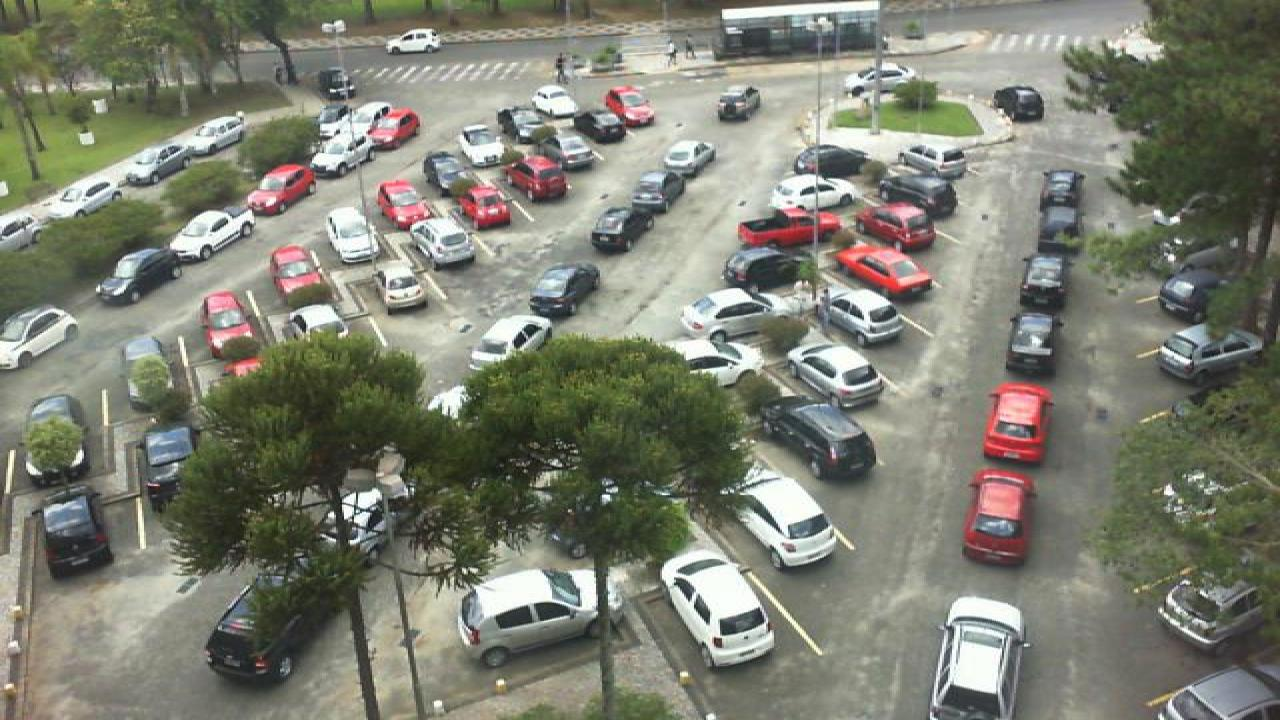Car: (456, 566, 598, 668), (658, 549, 776, 666), (926, 595, 1030, 720), (204, 583, 316, 685), (730, 470, 838, 568), (762, 393, 878, 481), (1152, 575, 1266, 648), (960, 468, 1034, 566), (1156, 322, 1266, 386), (20, 393, 94, 486), (1160, 664, 1280, 720), (788, 341, 886, 408), (36, 498, 112, 580), (122, 335, 196, 413), (982, 382, 1052, 464), (836, 243, 932, 299), (814, 287, 906, 345), (140, 424, 200, 511), (0, 305, 78, 371), (468, 314, 556, 371), (166, 209, 256, 264), (202, 290, 266, 367), (94, 249, 182, 305), (678, 286, 776, 336), (738, 207, 840, 251), (672, 338, 758, 390), (722, 246, 814, 292), (528, 261, 600, 318), (244, 162, 316, 219), (1158, 269, 1228, 324), (406, 216, 476, 271), (44, 176, 130, 220), (268, 245, 328, 307), (1006, 312, 1064, 376), (854, 202, 934, 248), (880, 175, 958, 221), (502, 154, 572, 202), (366, 258, 428, 312), (324, 206, 382, 263), (120, 144, 196, 187), (1018, 254, 1072, 312), (770, 176, 860, 210), (452, 181, 514, 230), (282, 302, 348, 346), (890, 144, 970, 180), (376, 180, 432, 231), (306, 136, 374, 178), (422, 151, 478, 201), (626, 170, 686, 215), (358, 106, 422, 148), (790, 144, 864, 180), (588, 206, 644, 253), (184, 113, 246, 153), (1030, 207, 1078, 257), (602, 83, 656, 126), (540, 129, 598, 169), (1038, 168, 1082, 219), (658, 140, 714, 180), (0, 207, 52, 250), (456, 124, 506, 168), (572, 107, 630, 143), (992, 84, 1044, 124), (338, 99, 388, 139), (494, 106, 544, 142), (716, 84, 762, 121), (528, 83, 576, 118)
